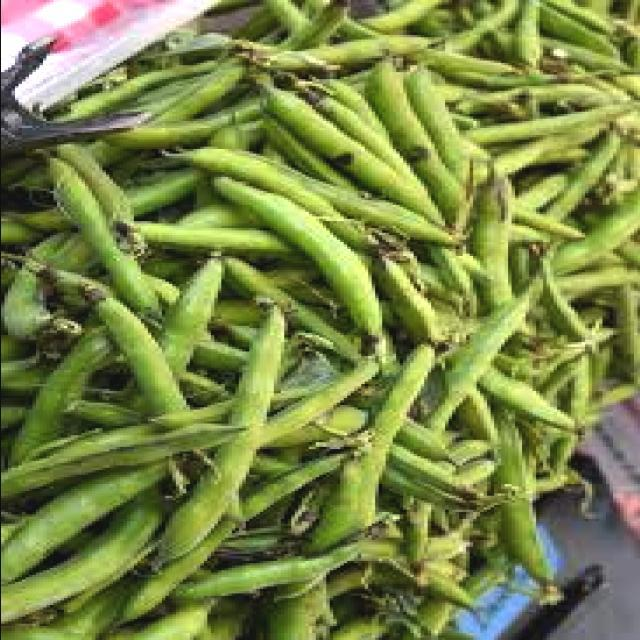Beans: (28, 188, 510, 556)
